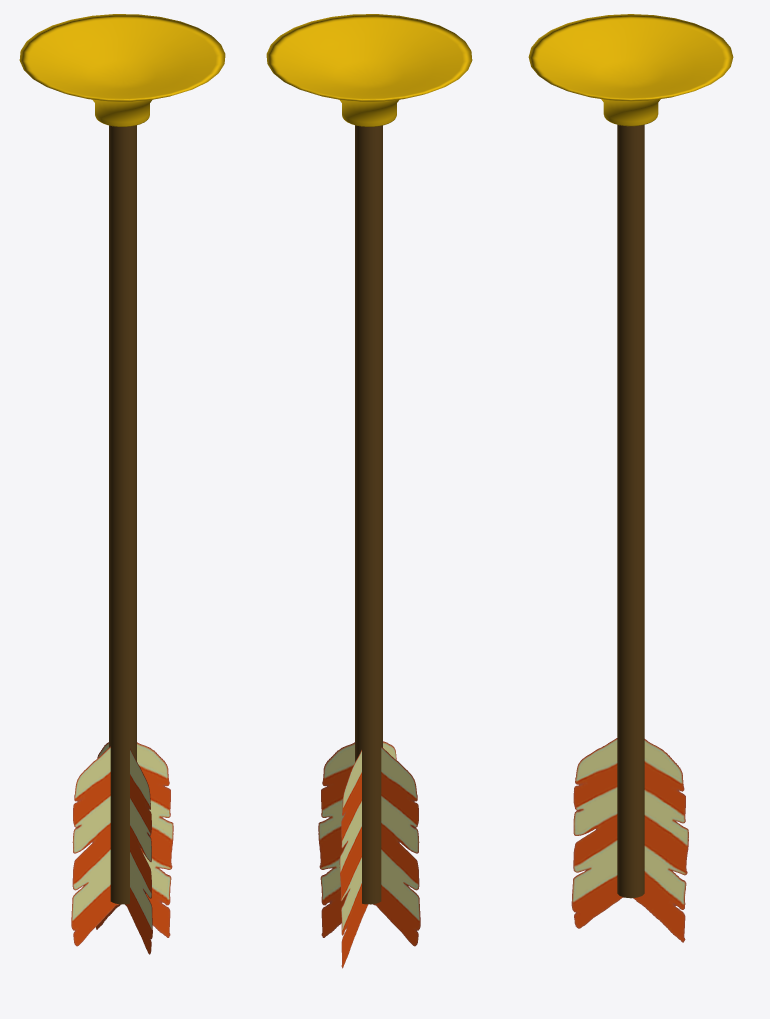
Rendered from Sticky_arrow.fbx.
3 renders of one model, left to right at view 1: azimuth 30°, elevation 25°; view 2: azimuth 150°, elevation 25°; view 3: azimuth 270°, elevation 25°, orthographic.
Visible parts, largest first — view 1: stick1, pompa, pPlane3, pPlane4; view 2: stick1, pompa, pPlane3, pPlane4; view 3: stick1, pompa, pPlane4.
Part boxes in pixels (x1,y1,x2,y2): stick1: (109, 125, 136, 904); pompa: (19, 14, 225, 126); pPlane3: (71, 742, 173, 946); pPlane4: (96, 742, 152, 954); stick1: (355, 125, 382, 904); pompa: (266, 14, 472, 126); pPlane3: (318, 742, 420, 946); pPlane4: (339, 741, 396, 968); stick1: (617, 125, 644, 898); pompa: (528, 14, 733, 126); pPlane4: (571, 738, 688, 942).
Bounding box in the file's own units: 25.25 × 99.86 × 25.25.
